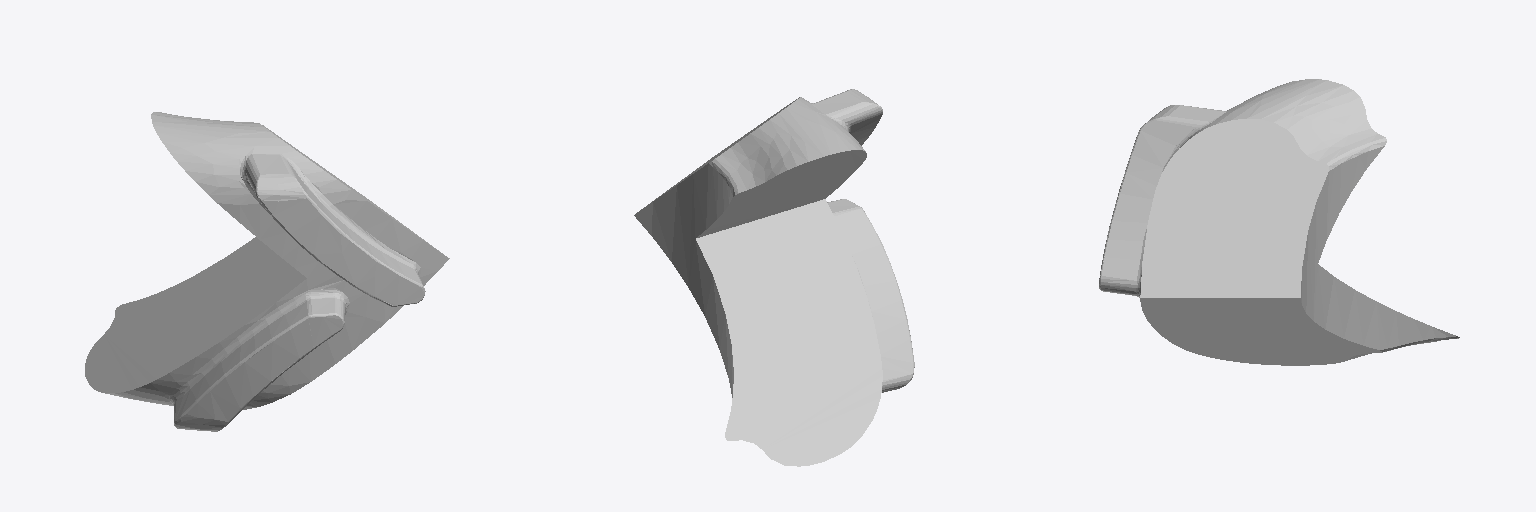
Rendered from lugged_wheel_section.obj.
The picture shows the model from 3 angles: view 1: azimuth 30°, elevation 25°; view 2: azimuth 150°, elevation 25°; view 3: azimuth 270°, elevation 25°; orthographic projection.
Parts seen in each view (by area): view 1: wheel_module_ruota_modulo(1); view 2: wheel_module_ruota_modulo(1); view 3: wheel_module_ruota_modulo(1).
Part boxes in pixels (x1,y1,x2,y2): wheel_module_ruota_modulo(1): (85, 112, 449, 431); wheel_module_ruota_modulo(1): (634, 89, 914, 466); wheel_module_ruota_modulo(1): (1099, 79, 1459, 365).
Size of the model in its own units: 0.3172 by 0.3341 by 0.4008.